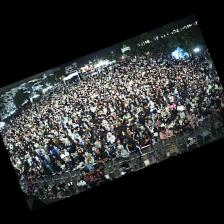person: (125, 140, 143, 162), (60, 149, 73, 169), (40, 156, 52, 173), (65, 141, 77, 158), (140, 133, 151, 150), (95, 148, 108, 162), (159, 127, 172, 140), (172, 121, 185, 134), (82, 144, 94, 158), (32, 158, 42, 173), (116, 146, 128, 158), (131, 129, 141, 143), (84, 153, 94, 166), (74, 156, 84, 169), (106, 132, 115, 146), (49, 162, 60, 173), (195, 109, 202, 125), (95, 136, 105, 147), (202, 107, 212, 118), (164, 120, 173, 132), (186, 109, 195, 121), (121, 131, 130, 143), (108, 146, 115, 161), (94, 142, 104, 152), (92, 128, 101, 139), (115, 138, 124, 149), (42, 165, 51, 176), (58, 160, 66, 172), (173, 115, 182, 125), (164, 112, 174, 121), (105, 141, 111, 156), (209, 106, 217, 117), (41, 152, 49, 163), (177, 109, 184, 121), (28, 169, 37, 178), (190, 118, 198, 128), (144, 129, 152, 139), (167, 100, 175, 110), (101, 120, 109, 130), (153, 123, 160, 134), (183, 118, 190, 129), (147, 121, 153, 133), (152, 133, 159, 143), (160, 107, 167, 117), (99, 176, 107, 184), (139, 126, 144, 136), (23, 172, 29, 180), (158, 119, 164, 127), (183, 107, 188, 116)
